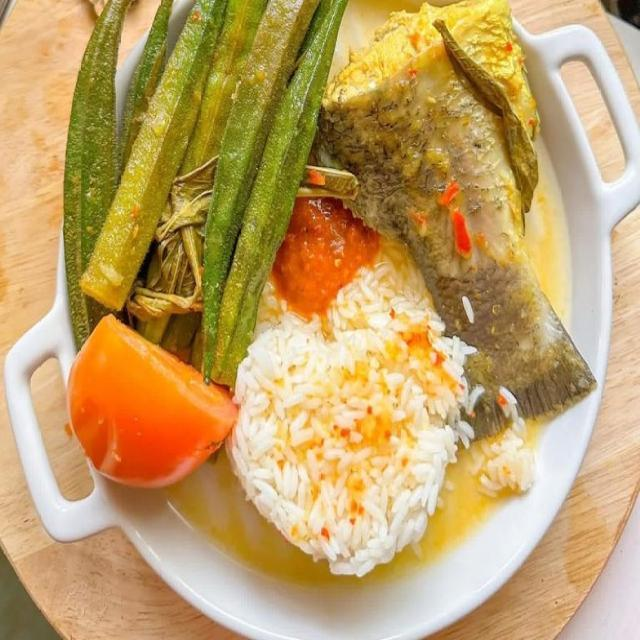Fish: (309, 0, 600, 435)
Plate: (4, 266, 358, 639)
Rice: (220, 269, 470, 585)
Vegetables: (61, 0, 350, 493)
